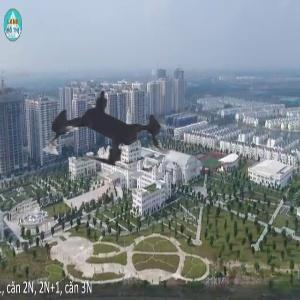drone: (17, 37, 208, 228)
